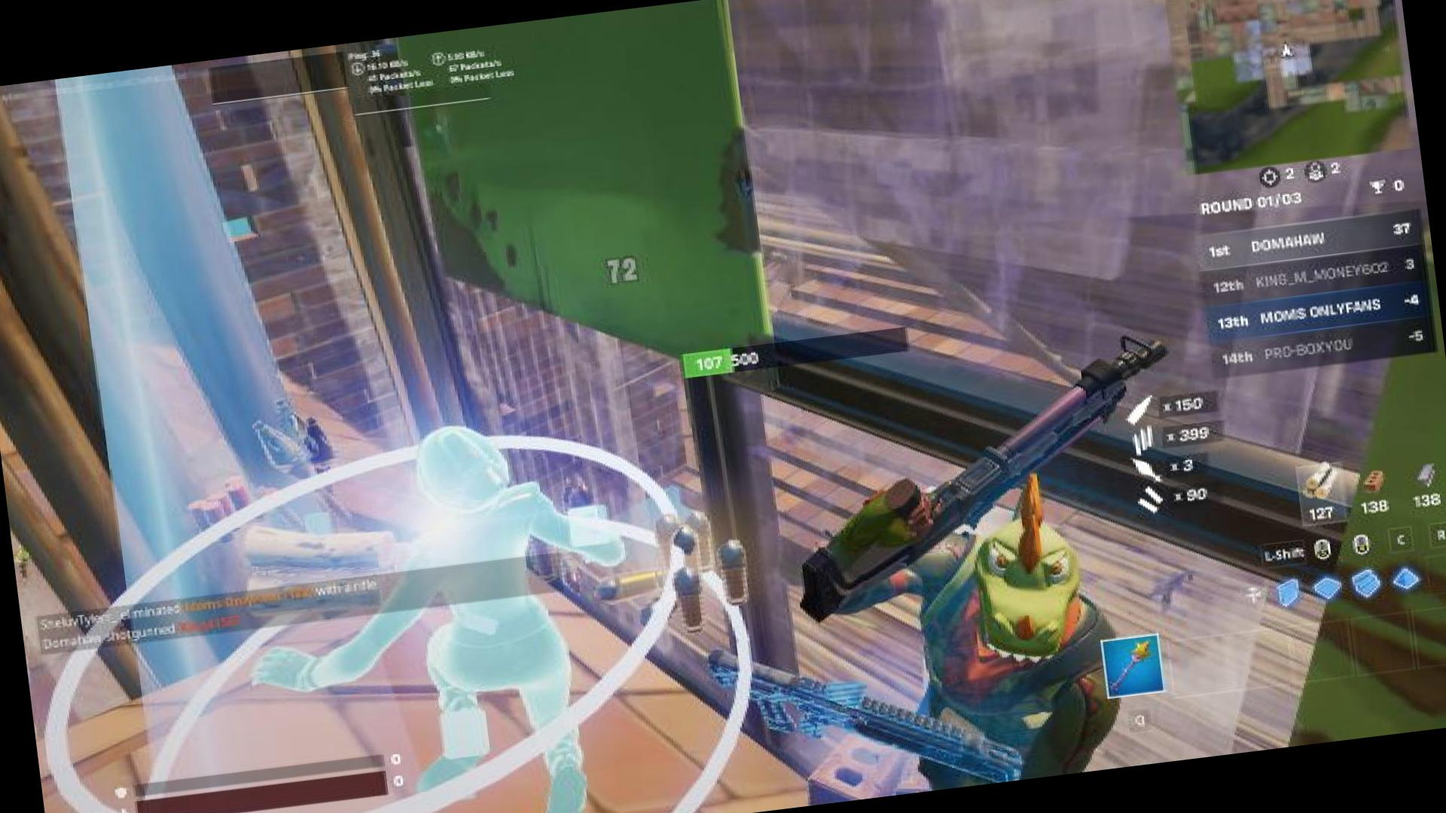player: (842, 469, 1114, 795)
